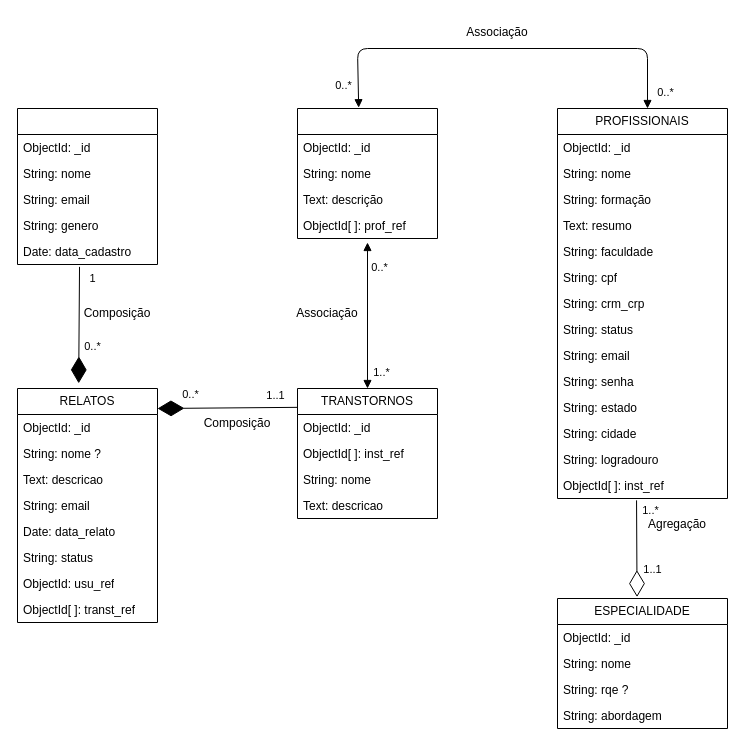
Image size: 745x748. Some labels were removed from this diagram. The shapes that lost their labels are listed below. From the top down, each one's box as (x1, y1, x2, y2) in pixels, then its label:
(16, 108, 158, 264): USUARIOS
(296, 108, 438, 238): INTITUICOES
